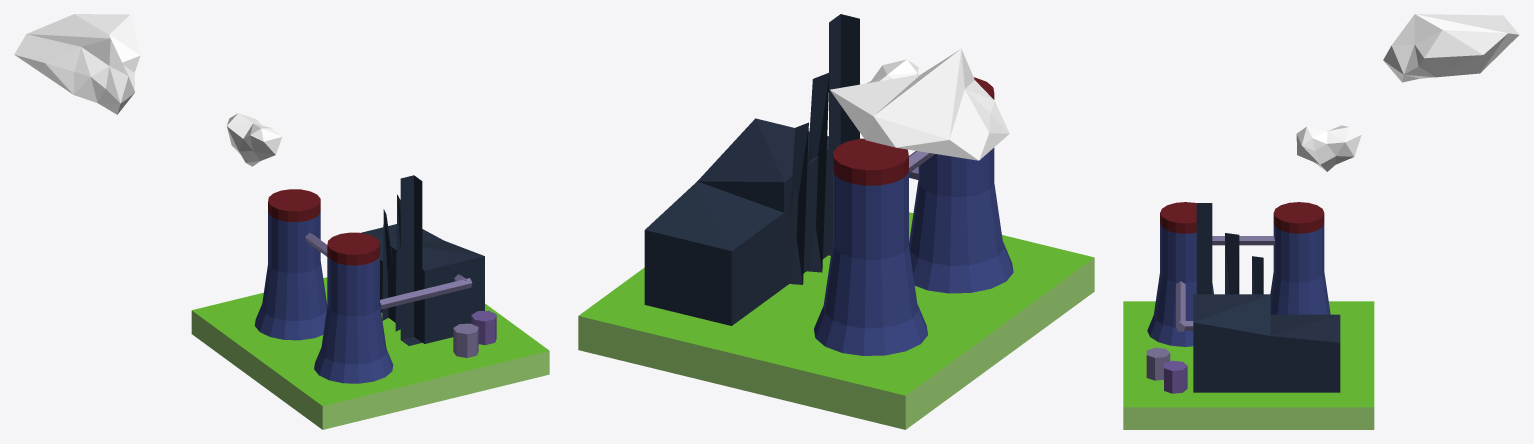
The model's file is building_oilrefinery.fbx.
3 views of the same model, side by side, from view 1: azimuth 30°, elevation 25°; view 2: azimuth 150°, elevation 25°; view 3: azimuth 270°, elevation 25° (orthographic). The views are drawn at different scales.
Visible parts, largest first — view 1: grass; view 2: grass; view 3: grass.
Part boxes in pixels (left/top/right/bottom): grass: left=14, top=14, right=549, bottom=429; grass: left=578, top=14, right=1094, bottom=429; grass: left=1123, top=14, right=1519, bottom=429.
Bounding box in the file's own units: 75.14 × 61.99 × 78.93.
